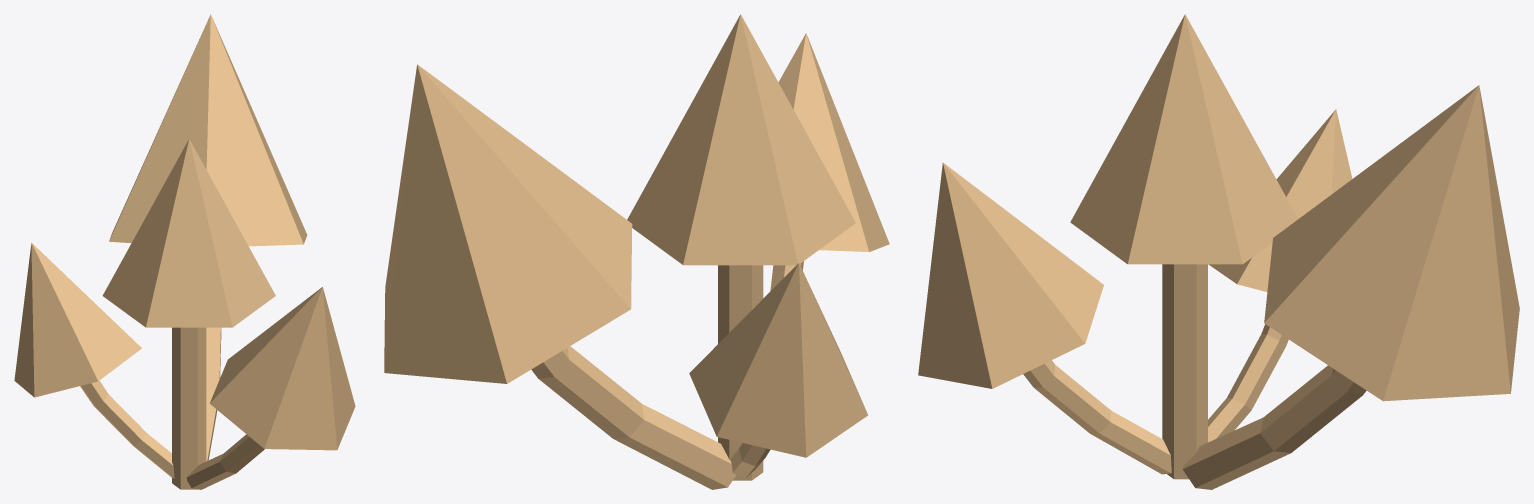
Rendered from mushroom_2.fbx.
3 renders of one model, left to right at view 1: azimuth 30°, elevation 25°; view 2: azimuth 150°, elevation 25°; view 3: azimuth 270°, elevation 25°, orthographic. The views are drawn at different scales.
Visible parts, largest first — view 1: mushroom_2; view 2: mushroom_2; view 3: mushroom_2.
Boxes of the visible parts, x1,y1,x2,y2 form: mushroom_2: (14, 14, 355, 489); mushroom_2: (384, 14, 889, 489); mushroom_2: (918, 14, 1519, 489).
Size of the model in its own units: 0.2356 by 0.258 by 0.2911.
